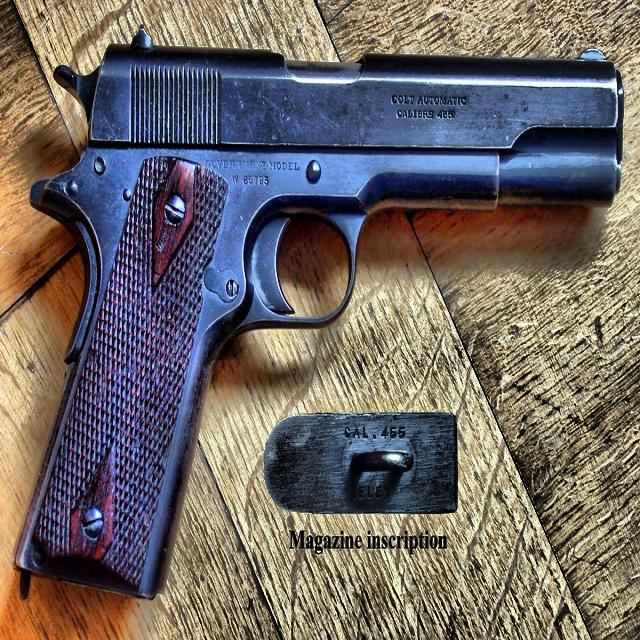Colt m1911: (13, 24, 625, 602)
